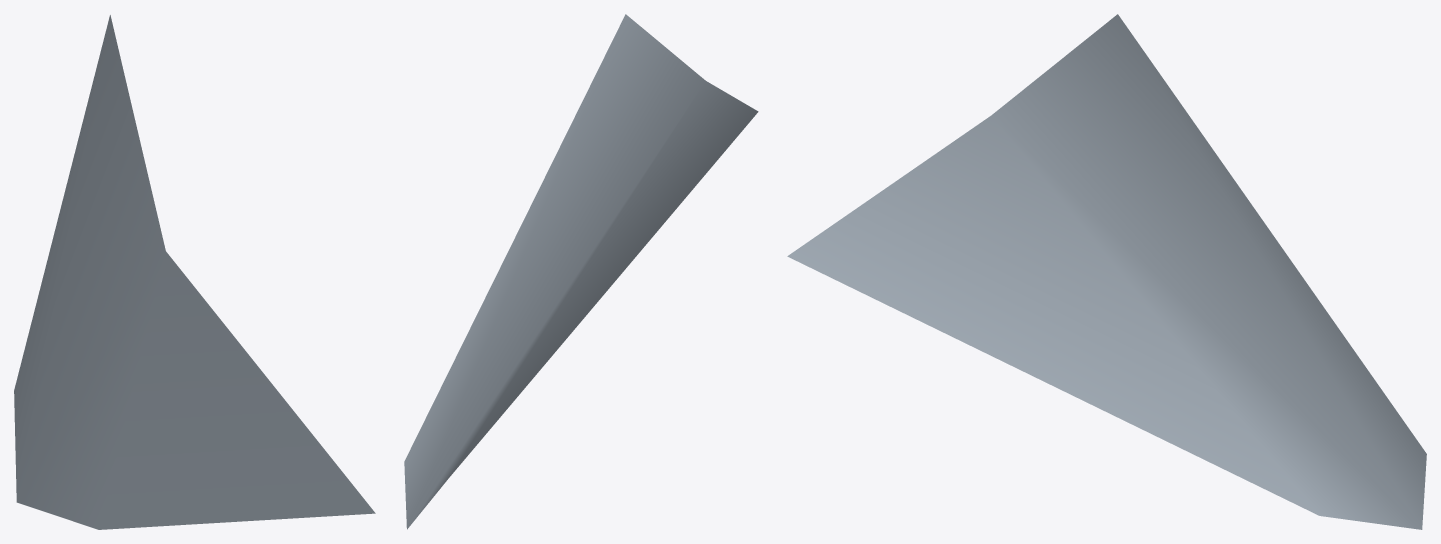
Rendered from lateral-talocalcaneal-ligament-r.glb.
The picture shows the model from 3 angles, left to right: view 1: azimuth 30°, elevation 25°; view 2: azimuth 150°, elevation 25°; view 3: azimuth 270°, elevation 25°; orthographic projection. The views are drawn at different scales.
Visible parts, largest first — view 1: Lateral talocalcaneal ligament.r; view 2: Lateral talocalcaneal ligament.r; view 3: Lateral talocalcaneal ligament.r.
Boxes of the visible parts, x1,y1,x2,y2 form: Lateral talocalcaneal ligament.r: (14, 15, 375, 529); Lateral talocalcaneal ligament.r: (404, 14, 758, 529); Lateral talocalcaneal ligament.r: (787, 14, 1426, 529).
Size of the model in its own units: 0.00339 by 0.0131 by 0.016.
